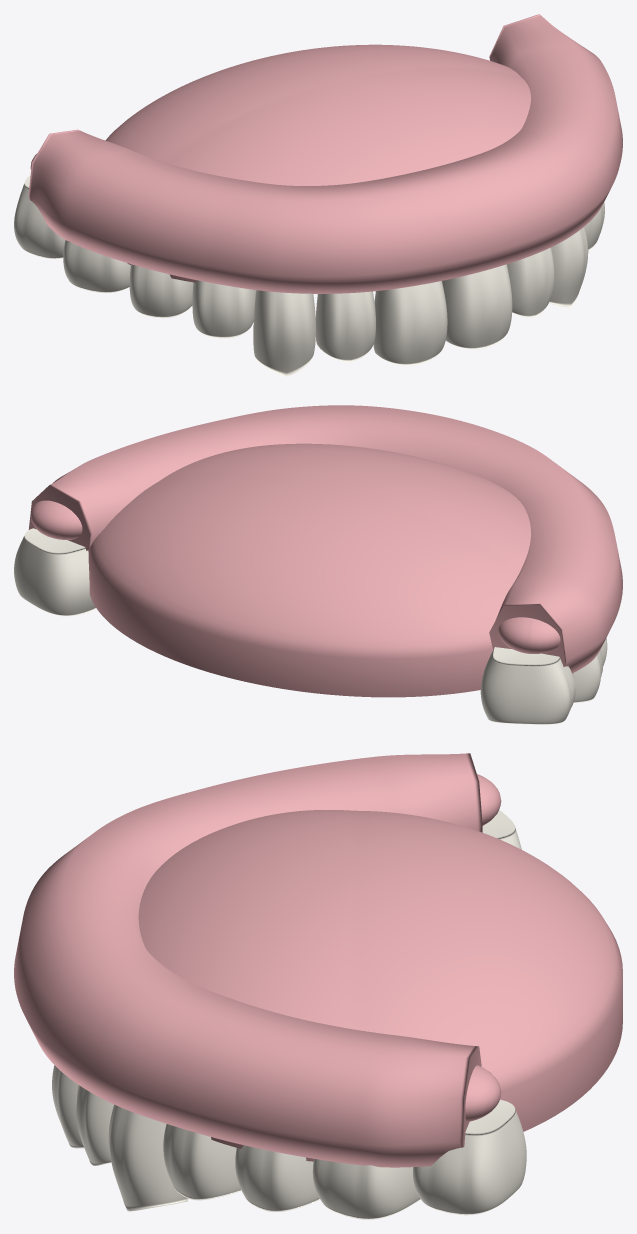
File: cad-upper-denture.glb
3 views of the same model, one above another, from view 1: azimuth 30°, elevation 25°; view 2: azimuth 150°, elevation 25°; view 3: azimuth 270°, elevation 25° (orthographic). The views are drawn at different scales.
Visible parts, largest first — view 1: upper_gingiva, upper_teeth; view 2: upper_gingiva, upper_teeth; view 3: upper_gingiva, upper_teeth.
Boxes of the visible parts, left/top/right/bottom form: upper_gingiva: left=28, top=14, right=622, bottom=293; upper_teeth: left=14, top=175, right=604, bottom=376; upper_gingiva: left=28, top=405, right=622, bottom=697; upper_teeth: left=14, top=528, right=607, bottom=724; upper_gingiva: left=14, top=753, right=622, bottom=1167; upper_teeth: left=52, top=810, right=526, bottom=1219.
Bounding box in the file's own units: 3.62 × 1.22 × 2.7.
